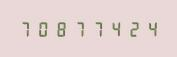eight: (53, 20, 70, 37)
four: (107, 20, 124, 37), (143, 20, 160, 37)
seven: (17, 20, 34, 37), (71, 20, 88, 37), (89, 20, 106, 37)
two: (125, 20, 142, 37)
zero: (35, 20, 52, 37)
